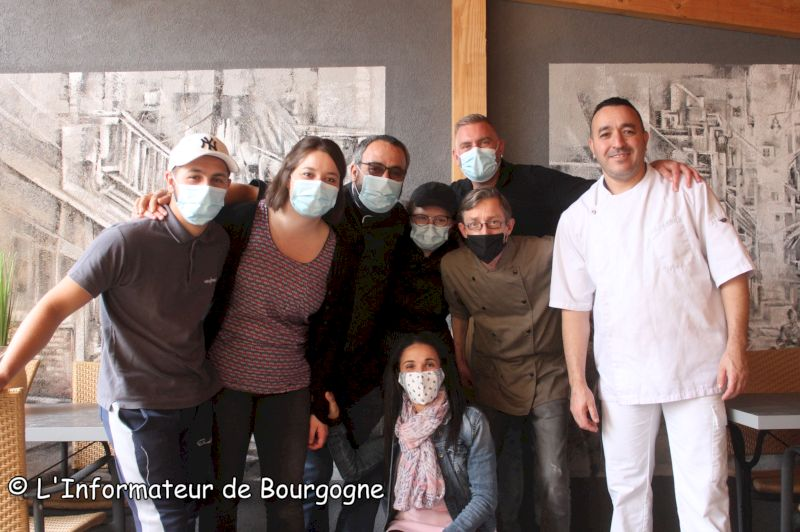with_mask: (162, 150, 234, 234), (277, 154, 339, 224), (351, 157, 405, 218), (453, 123, 508, 181), (396, 342, 446, 405), (459, 206, 515, 260), (411, 206, 455, 250)
without_mask: (587, 105, 648, 182)
